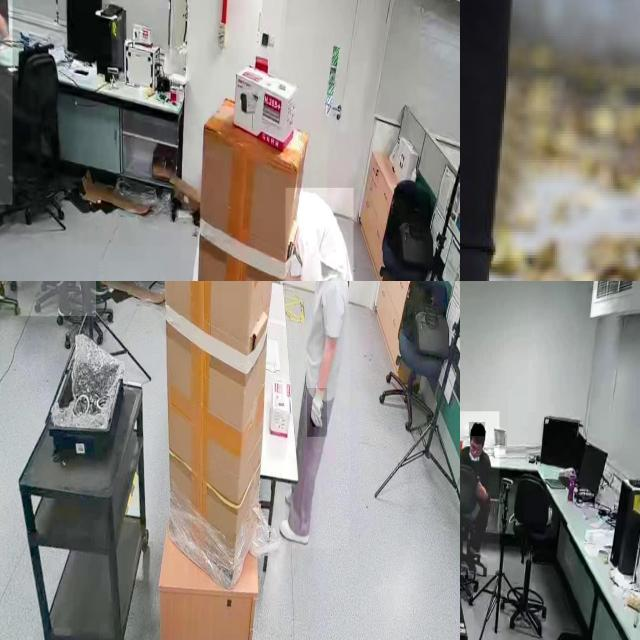hand_glove: (307, 388, 327, 438)
head_nohelmet: (469, 422, 485, 437)
person: (283, 281, 350, 549), (285, 187, 354, 281), (460, 411, 499, 575), (0, 0, 13, 205)
shoes: (279, 516, 308, 545), (54, 281, 74, 319), (465, 545, 480, 574), (0, 281, 8, 305)
